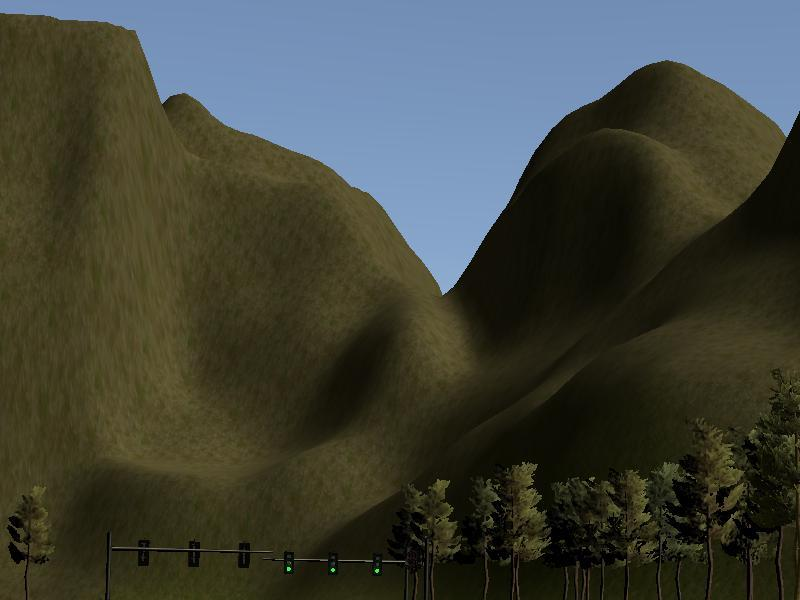Green: (283, 549, 295, 576), (327, 550, 338, 576), (371, 551, 382, 577)
